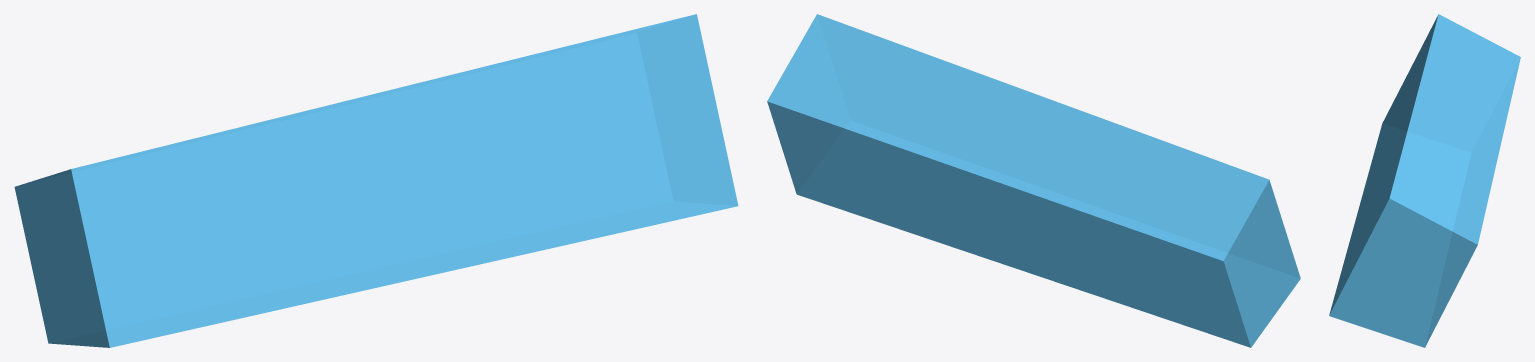
File: Event_421278790_HErechit_22.fbx
The picture shows the model from 3 angles, left to right: view 1: azimuth 30°, elevation 25°; view 2: azimuth 150°, elevation 25°; view 3: azimuth 270°, elevation 25°; orthographic projection. The views are drawn at different scales.
Visible parts, largest first — view 1: Model; view 2: Model; view 3: Model.
Part boxes in pixels (x1=…): Model: x1=14, y1=14, x2=738, y2=347; Model: x1=767, y1=14, x2=1300, y2=347; Model: x1=1329, y1=14, x2=1520, y2=347.
Size of the model in its own units: 0.7549 by 0.2754 by 0.291.
